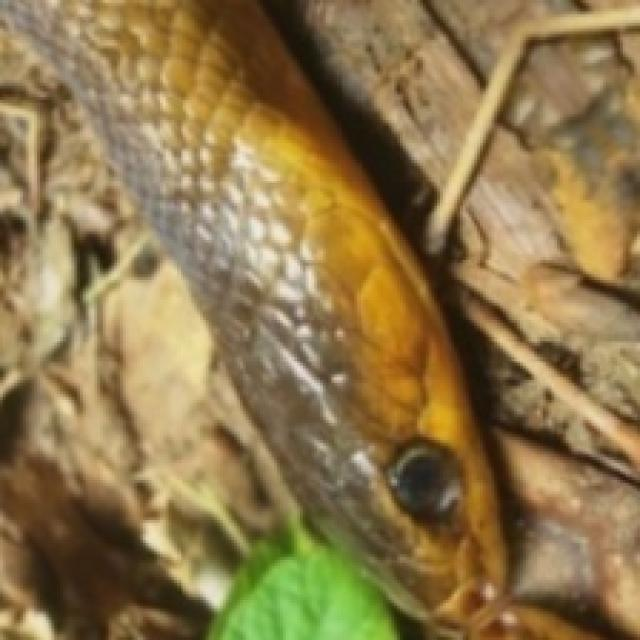reddish rat snake: (0, 0, 637, 637)
